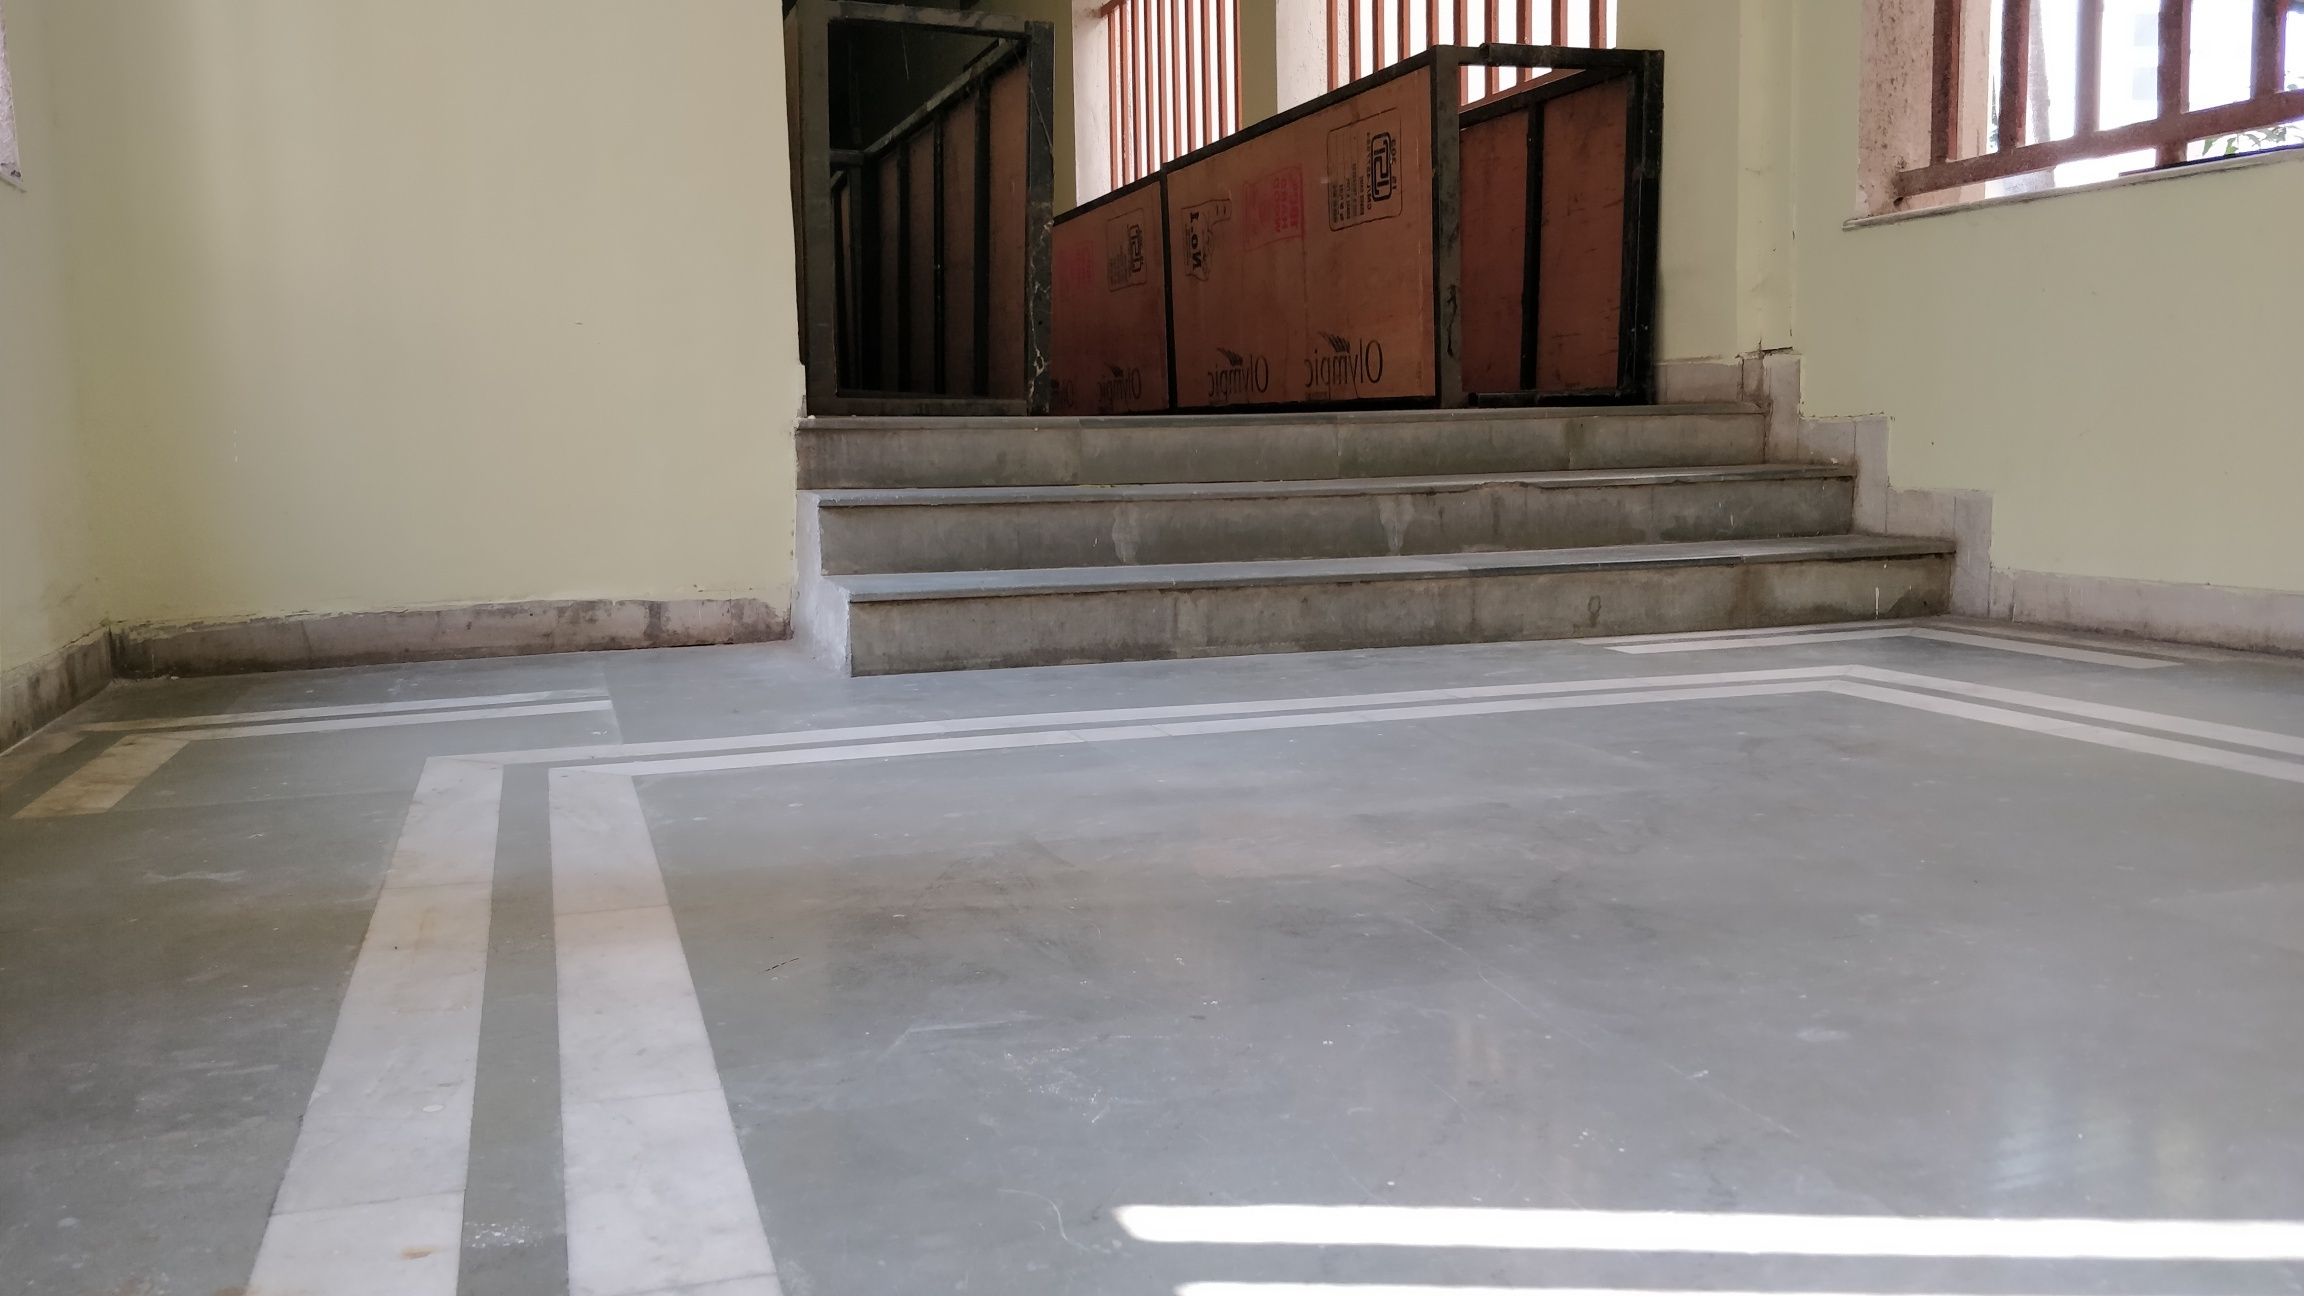stairs_up: (779, 408, 1972, 660)
